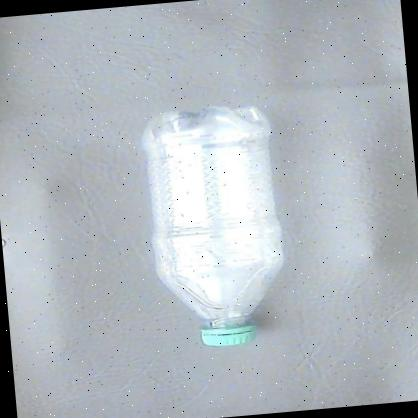bottle: (131, 97, 304, 355)
cap: (196, 310, 267, 347)
